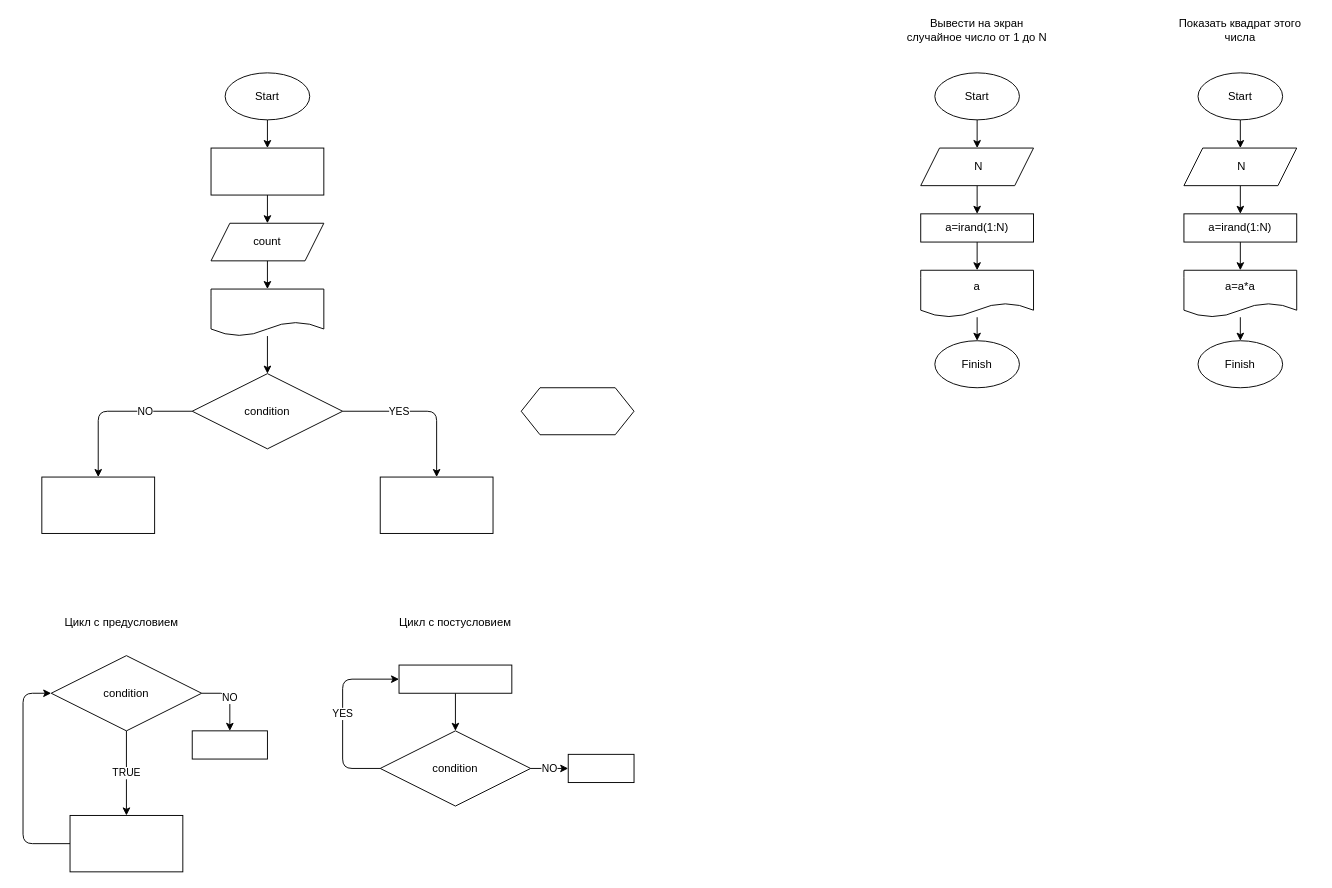
Some shapes in this 1332 by 888 pixel diagram are drawn without their labels. The shapes that lost their labels are listed below. From the top down, each one's centre as x and y in pixels, then its label:
At (x=267, y=171): "count=0 res=1*sqrt(2)".
At (x=267, y=312): "print(res)".
At (x=577, y=411): "count - 1,10,5".
